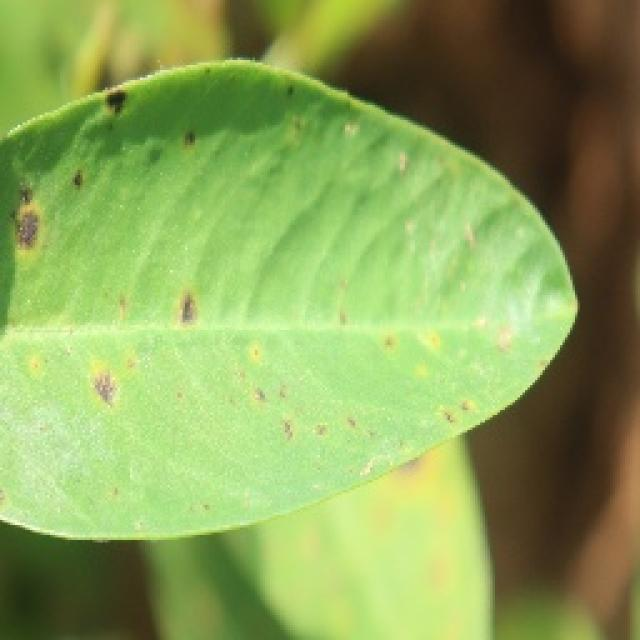Early_leaf_spot: (204, 330, 381, 469), (376, 307, 501, 433), (58, 340, 160, 442), (155, 258, 228, 372), (0, 142, 66, 249), (92, 76, 150, 152), (170, 123, 220, 176)
